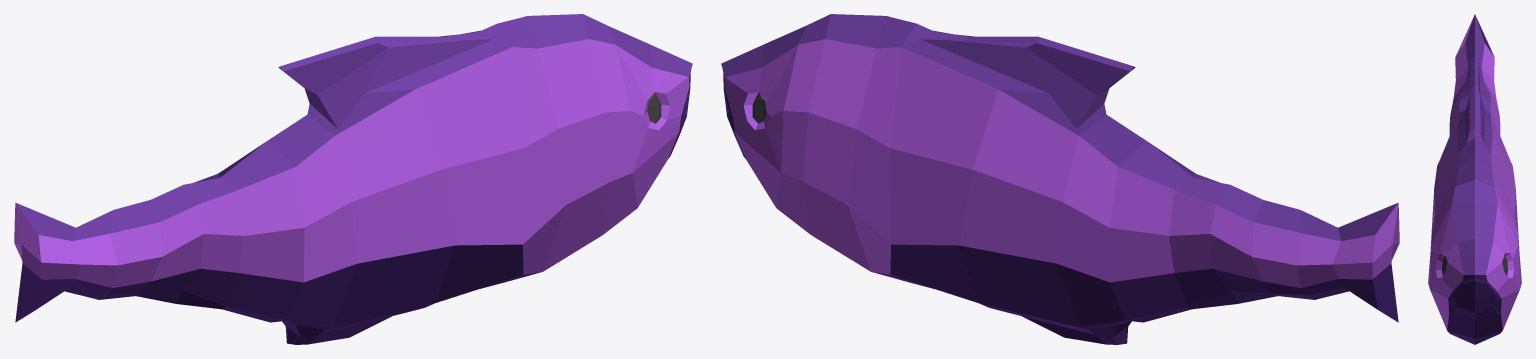
The model's file is FishV2.fbx.
The picture shows the model from 3 angles, left to right: view 1: azimuth 30°, elevation 25°; view 2: azimuth 150°, elevation 25°; view 3: azimuth 270°, elevation 25°; orthographic projection. The views are drawn at different scales.
Parts seen in each view (by area): view 1: FishV2; view 2: FishV2; view 3: FishV2.
Part boxes in pixels (bbox=[...]): FishV2: bbox=[14, 14, 692, 344]; FishV2: bbox=[721, 14, 1399, 344]; FishV2: bbox=[1428, 14, 1521, 344].
Size of the model in its own units: 194 by 79.54 by 31.91.
